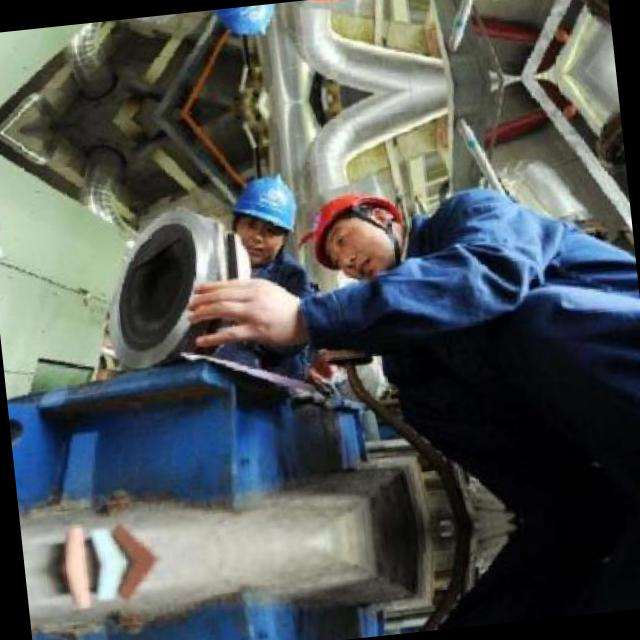helmet: (301, 177, 414, 286), (220, 165, 312, 267), (202, 1, 290, 44)
